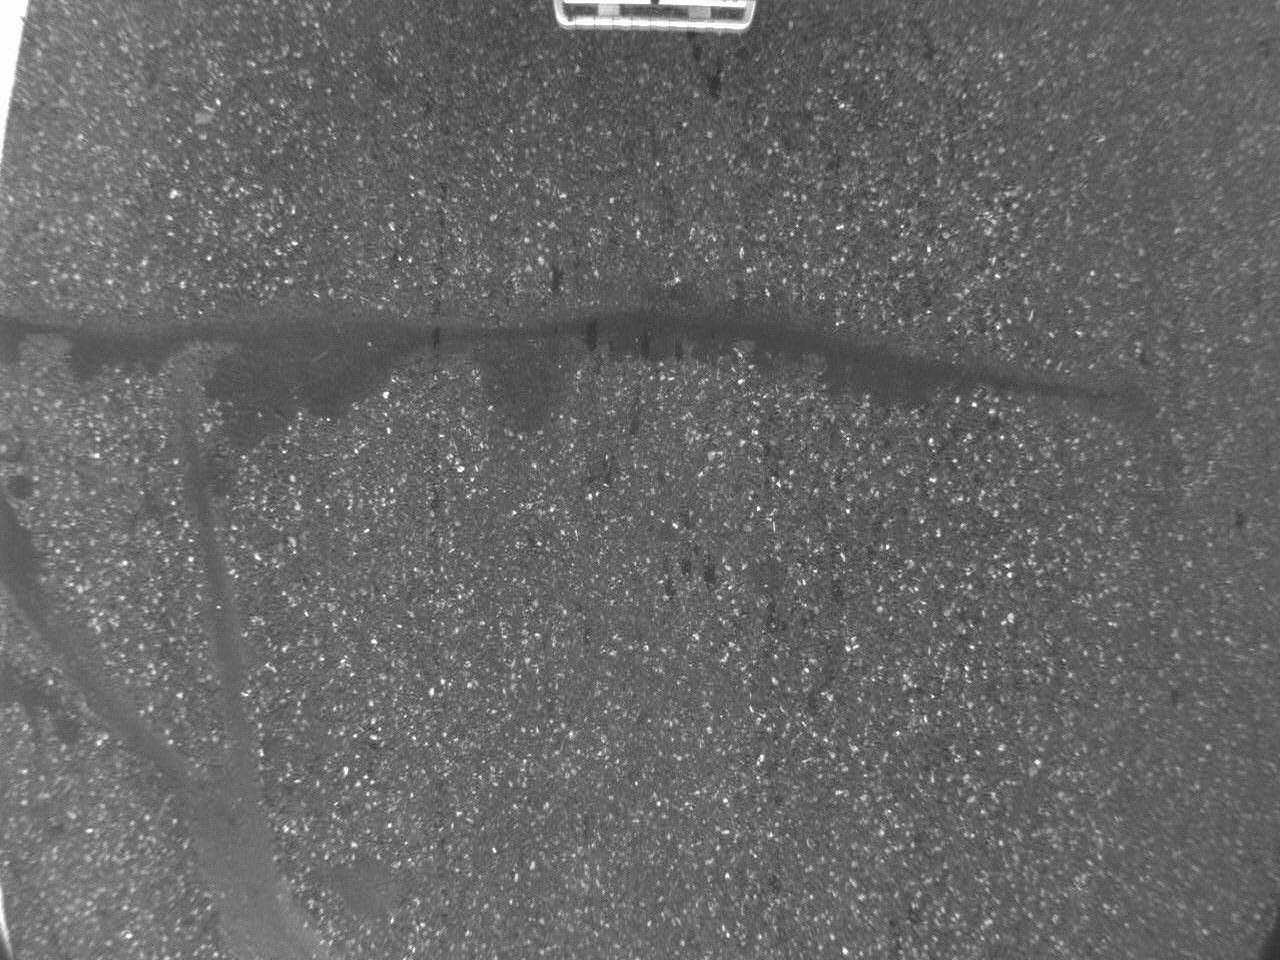sealed: (10, 286, 1170, 446)
